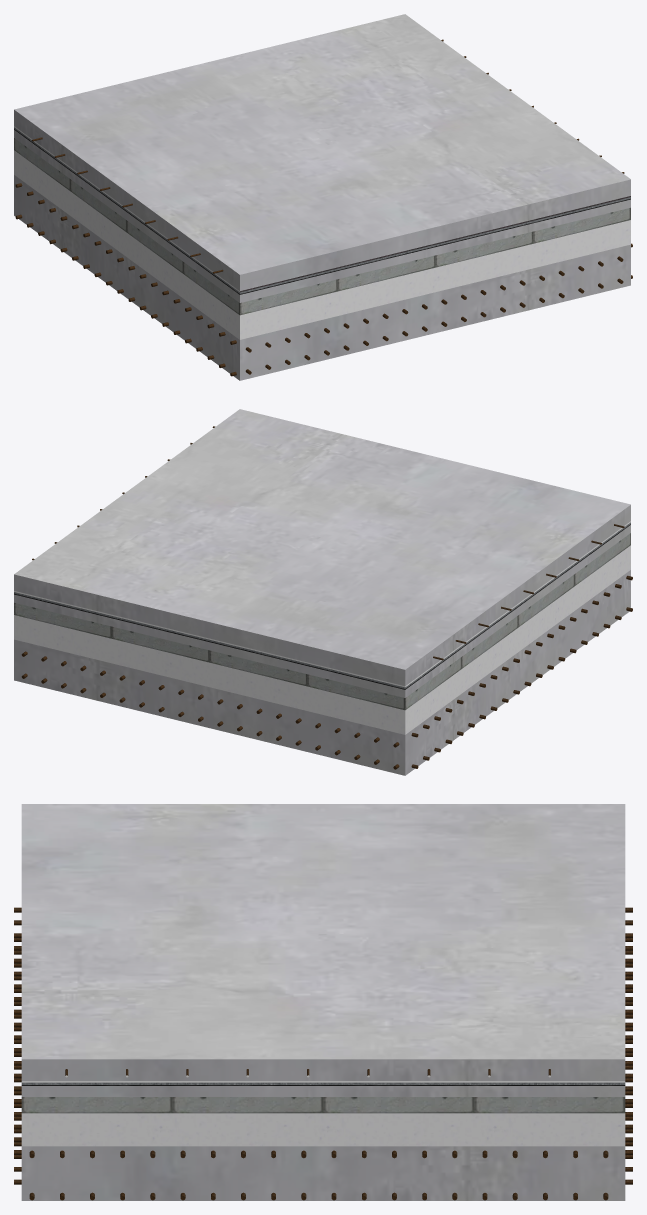
Rendered from flat-roof.glb.
The picture shows the model from 3 angles, top to bottom: view 1: azimuth 30°, elevation 25°; view 2: azimuth 150°, elevation 25°; view 3: azimuth 270°, elevation 25°; orthographic projection. The views are drawn at different scales.
Parts seen in each view (by area): view 1: 40厚细石混凝土毛面, 钢筋混凝土屋面, 60厚聚苯乙烯保温板, 1：1：6 水泥、砂子、焦渣、最薄处30厚，找2%坡, 20厚1：3水泥砂浆找平层, 4厚SBS改性沥青卷材防水层, 干铺350号沥青卷材一层, 涂沥青冷底子油一道; view 2: 40厚细石混凝土毛面, 钢筋混凝土屋面, 60厚聚苯乙烯保温板, 1：1：6 水泥、砂子、焦渣、最薄处30厚，找2%坡, 20厚1：3水泥砂浆找平层, 4厚SBS改性沥青卷材防水层, 干铺350号沥青卷材一层, 涂沥青冷底子油一道; view 3: 40厚细石混凝土毛面, 钢筋混凝土屋面, 60厚聚苯乙烯保温板, 1：1：6 水泥、砂子、焦渣、最薄处30厚，找2%坡, 20厚1：3水泥砂浆找平层, 4厚SBS改性沥青卷材防水层, 干铺350号沥青卷材一层, 涂沥青冷底子油一道.
Part boxes in pixels (x1,y1,x2,y2): 40厚细石混凝土毛面: (14, 14, 630, 290); 钢筋混凝土屋面: (14, 175, 632, 380); 60厚聚苯乙烯保温板: (14, 150, 630, 339); 1：1：6 水泥、砂子、焦渣、最薄处30厚，找2%坡: (14, 138, 630, 315); 20厚1：3水泥砂浆找平层: (14, 130, 630, 302); 4厚SBS改性沥青卷材防水层: (14, 127, 630, 293); 干铺350号沥青卷材一层: (14, 126, 630, 292); 涂沥青冷底子油一道: (14, 129, 630, 294); 40厚细石混凝土毛面: (14, 409, 630, 685); 钢筋混凝土屋面: (14, 570, 632, 775); 60厚聚苯乙烯保温板: (14, 545, 630, 734); 1：1：6 水泥、砂子、焦渣、最薄处30厚，找2%坡: (14, 533, 630, 710); 20厚1：3水泥砂浆找平层: (14, 525, 630, 697); 4厚SBS改性沥青卷材防水层: (14, 522, 630, 688); 干铺350号沥青卷材一层: (14, 521, 630, 687); 涂沥青冷底子油一道: (14, 524, 630, 689); 40厚细石混凝土毛面: (21, 804, 625, 1080); 钢筋混凝土屋面: (14, 907, 632, 1200); 60厚聚苯乙烯保温板: (21, 1113, 625, 1146); 1：1：6 水泥、砂子、焦渣、最薄处30厚，找2%坡: (21, 1097, 625, 1113); 20厚1：3水泥砂浆找平层: (21, 1086, 625, 1096); 4厚SBS改性沥青卷材防水层: (21, 1082, 625, 1084); 干铺350号沥青卷材一层: (21, 1081, 625, 1082); 涂沥青冷底子油一道: (21, 1085, 625, 1085).
Size of the model in its own units: 1.05 by 0.259 by 1.03.
Materials: 11 (9 with a texture image).
